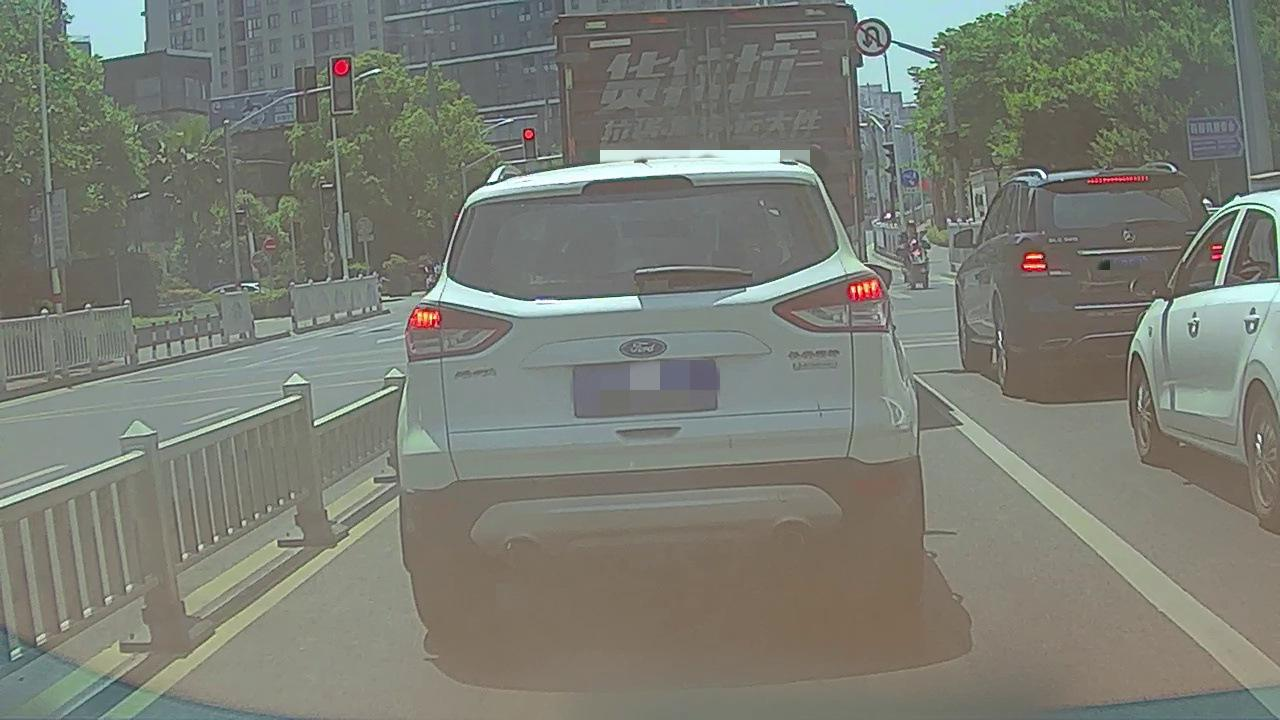traffic_light: (331, 56, 354, 112), (523, 128, 534, 158)
